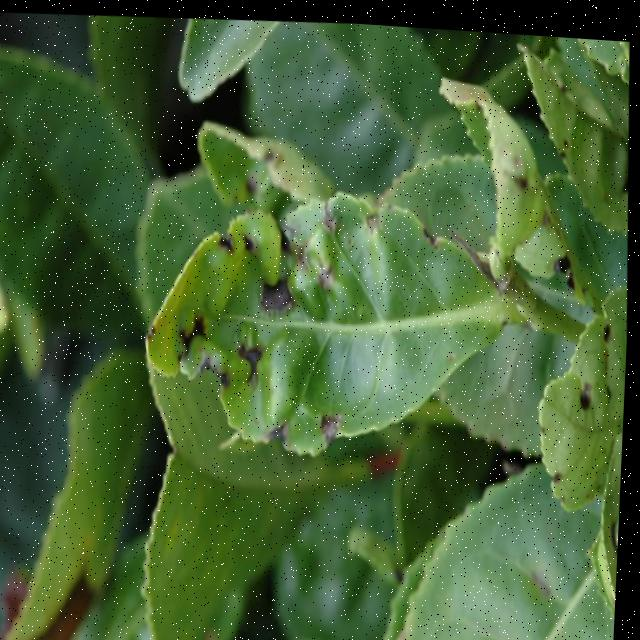Tea red scab: (166, 180, 486, 463)
